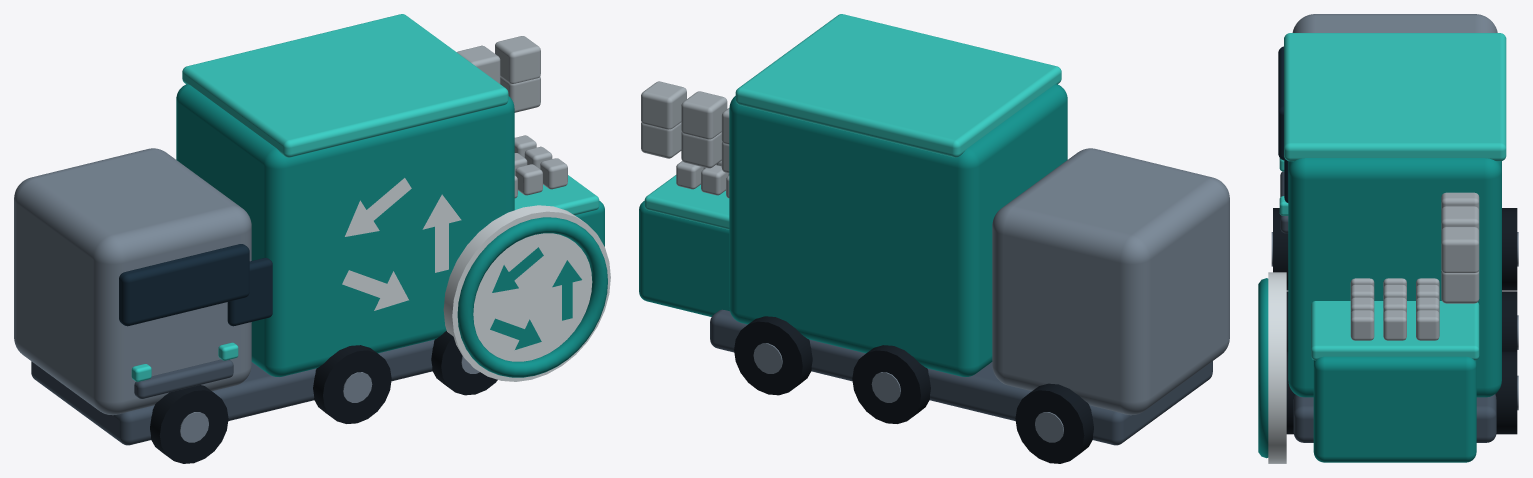
File: company-processor-reactor.glb
The picture shows the model from 3 angles, left to right: view 1: azimuth 30°, elevation 25°; view 2: azimuth 150°, elevation 25°; view 3: azimuth 270°, elevation 25°; orthographic projection. The views are drawn at different scales.
Size of the model in its own units: 17.2 by 9.32 by 7.19.
